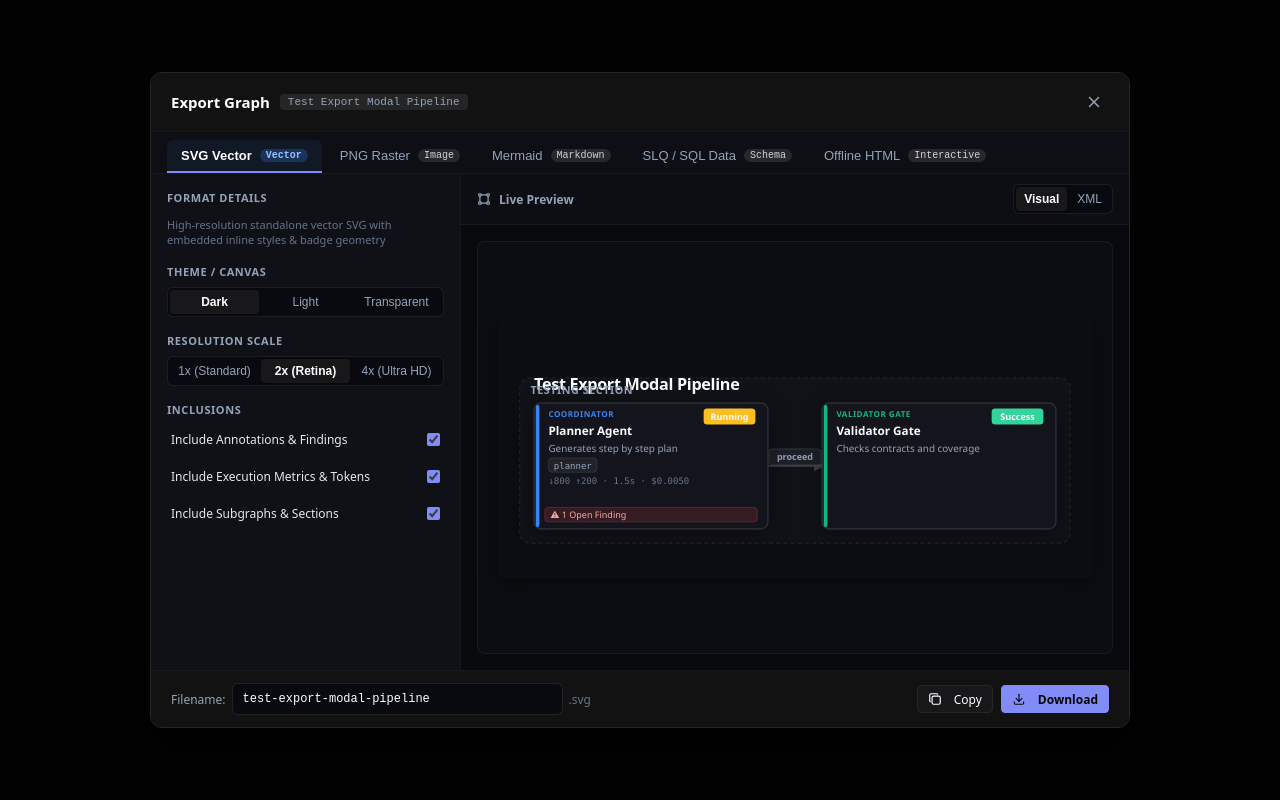
Test: ExportModal Component › switches format tabs and updates live preview panel
Click the tab "Mermaid Markdown" at (551, 156), box [478,140,624,173]
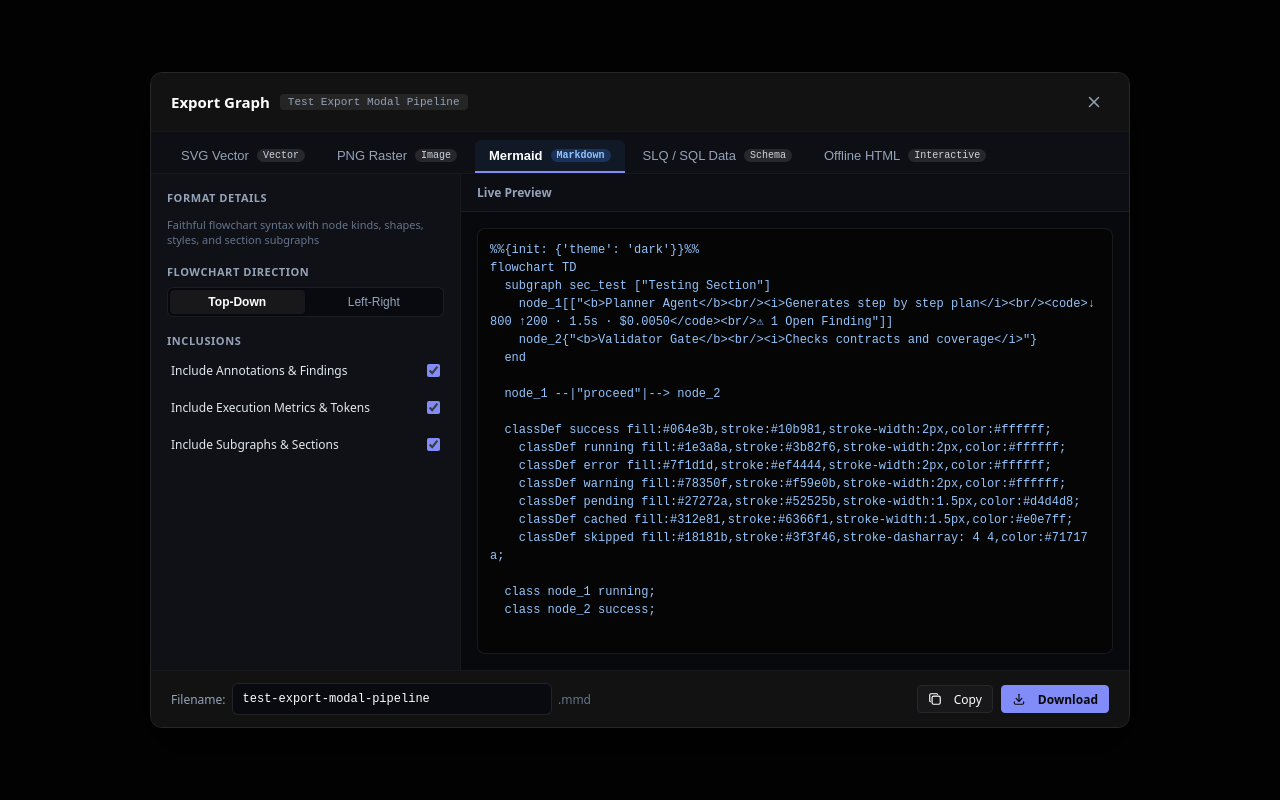
Expected: the text "flowchart TD" is shown, [490,243,1095,617]
Expected: the text "Planner Agent" is shown, [490,243,1095,617]
Click the tab "SLQ / SQL Data Schema" at (717, 156), box [628,140,806,173]
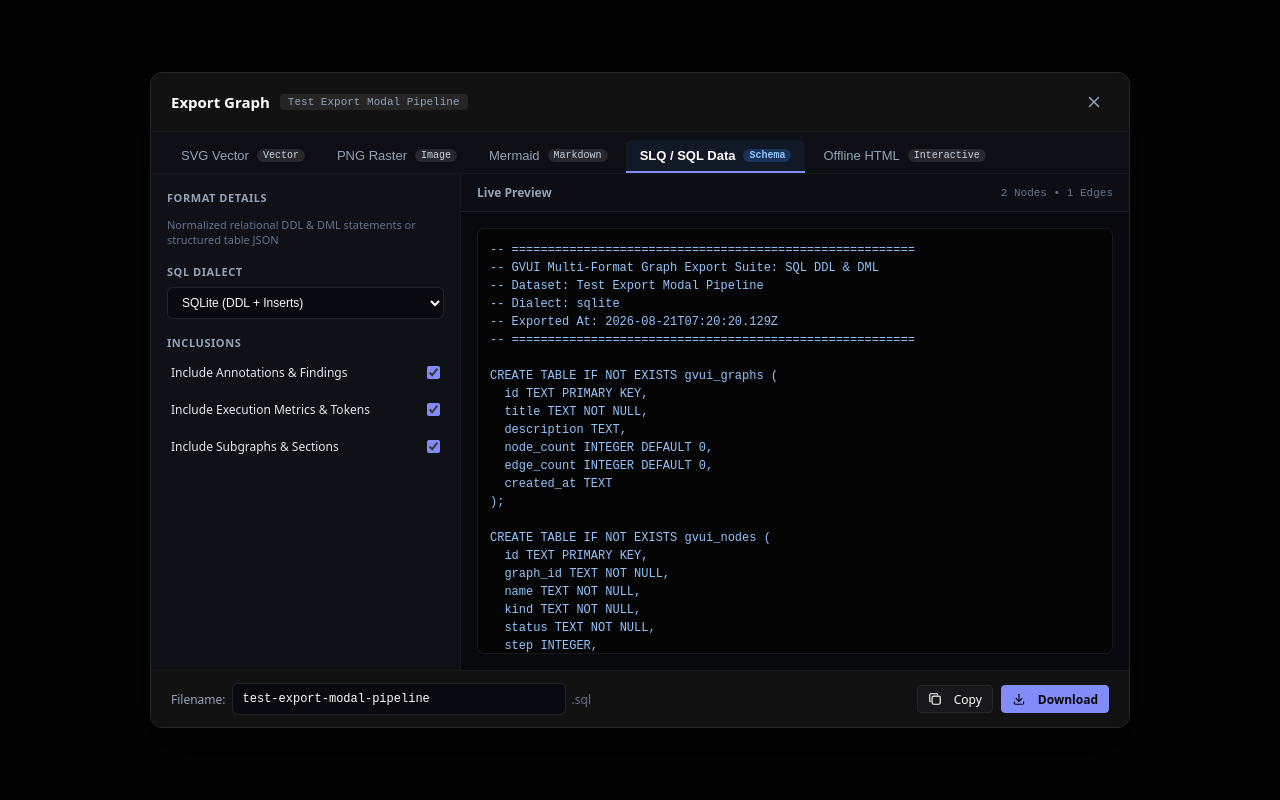
Click the tab "Offline HTML Interactive" at (905, 156), box [810,140,1000,173]
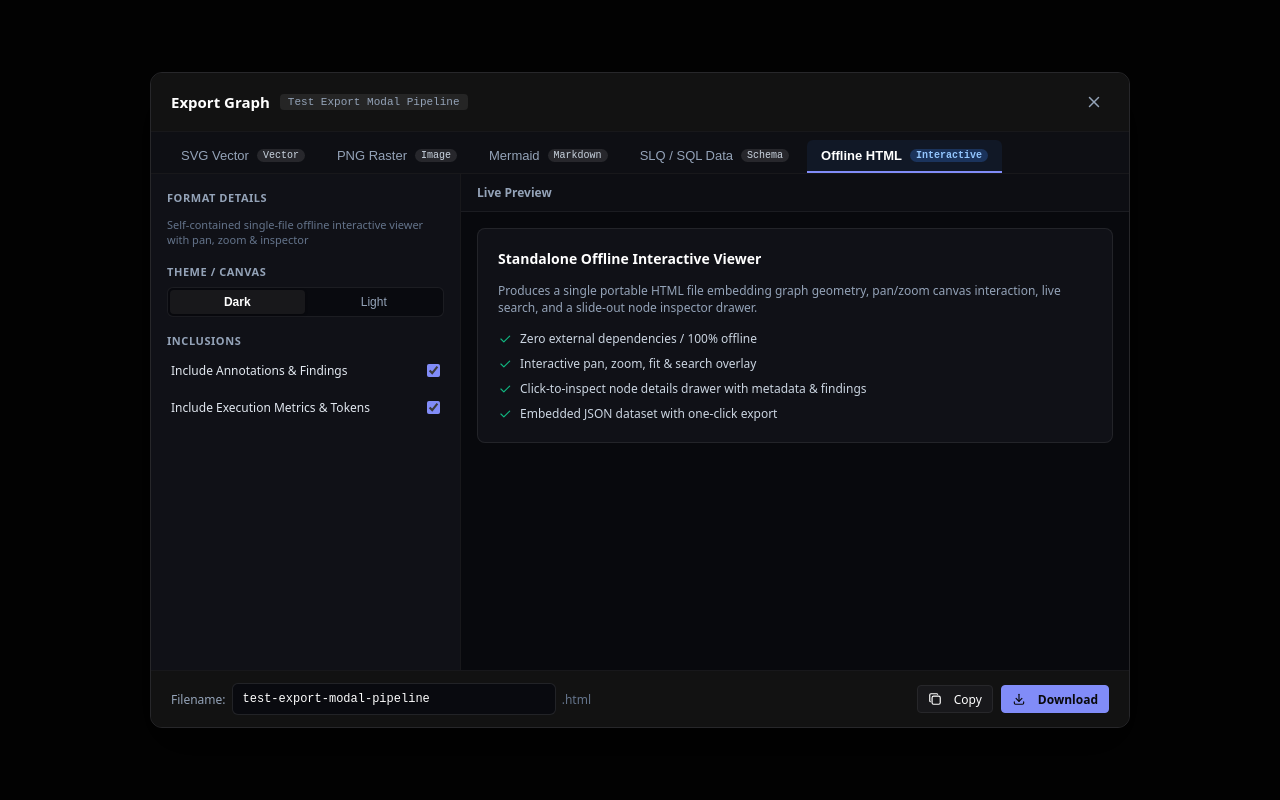
Expected: the list is shown, [498,330,866,422]
